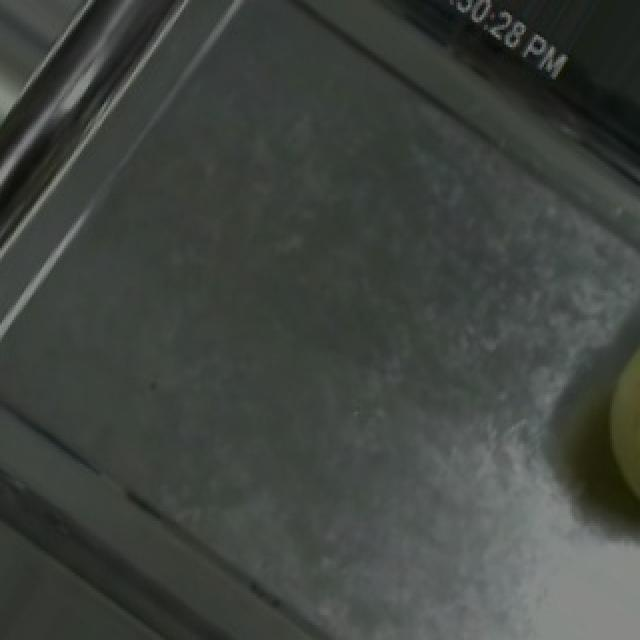Fruit: (578, 298, 640, 548)
